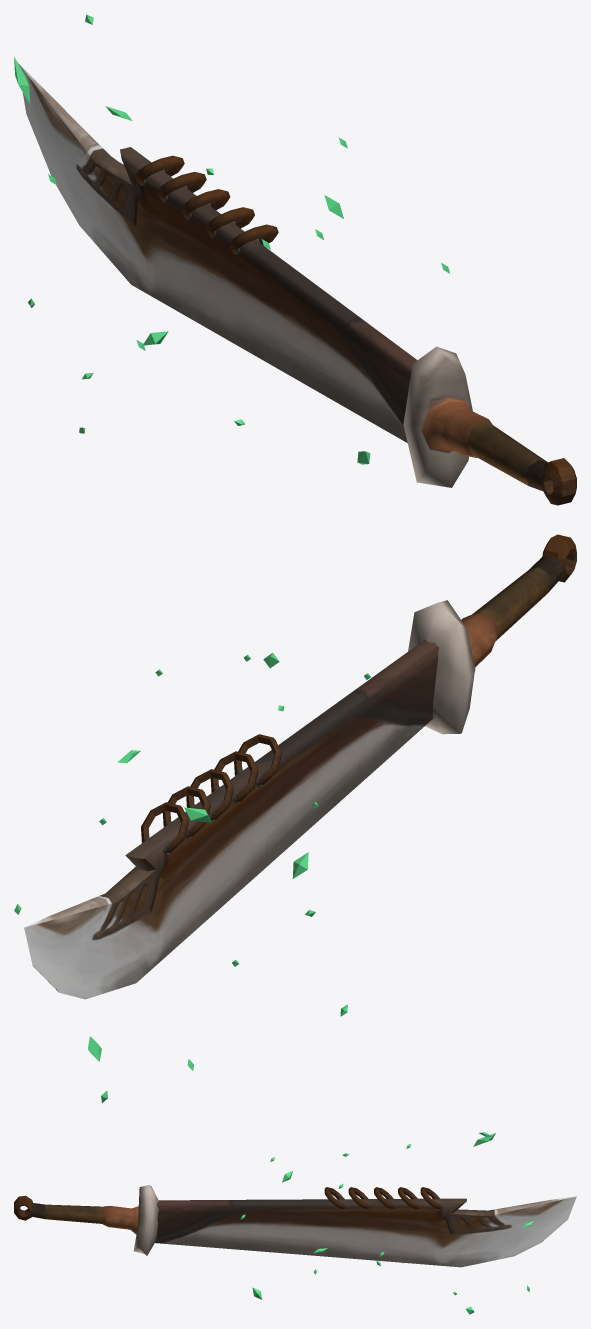
Rendered from lunapiena.fbx.
3 views of the same model, one above another, from view 1: azimuth 30°, elevation 25°; view 2: azimuth 150°, elevation 25°; view 3: azimuth 270°, elevation 25° (orthographic). The views are drawn at different scales.
Parts seen in each view (by area): view 1: pCube1, pCylinder1, pTorus11, pTorus13, pTorus12, pTorus14, pTorus15, pTorus10; view 2: pCube1, pCylinder1, pTorus11, pTorus15, pTorus10, pTorus12, pTorus13, pTorus14; view 3: pCube1, pCylinder1, pTorus11, pTorus10, pTorus15, pTorus12, pTorus14, pTorus13.
Part boxes in pixels (left/top/right/bottom): pCube1: left=18, top=63, right=417, bottom=442; pCylinder1: left=403, top=346, right=548, bottom=490; pTorus11: left=541, top=458, right=576, bottom=505; pTorus13: left=181, top=189, right=230, bottom=218; pTorus12: left=206, top=207, right=254, bottom=236; pTorus14: left=158, top=172, right=206, bottom=200; pTorus15: left=136, top=155, right=184, bottom=184; pTorus10: left=230, top=224, right=278, bottom=253; pCube1: left=24, top=639, right=438, bottom=999; pCylinder1: left=408, top=555, right=563, bottom=734; pTorus11: left=542, top=534, right=576, bottom=582; pTorus15: left=141, top=802, right=188, bottom=852; pTorus10: left=234, top=734, right=281, bottom=784; pTorus12: left=210, top=751, right=258, bottom=802; pTorus13: left=186, top=769, right=234, bottom=819; pTorus14: left=163, top=786, right=210, bottom=836; pCube1: left=155, top=1196, right=576, bottom=1267; pCylinder1: left=30, top=1185, right=158, bottom=1255; pTorus11: left=14, top=1195, right=32, bottom=1220; pTorus10: left=324, top=1187, right=345, bottom=1209; pTorus15: left=420, top=1187, right=441, bottom=1209; pTorus12: left=348, top=1187, right=369, bottom=1209; pTorus14: left=398, top=1187, right=418, bottom=1209; pTorus13: left=374, top=1187, right=394, bottom=1209.
Size of the model in its own units: 13.09 by 16.91 by 50.58.
Materials: 5 (3 with a texture image).
